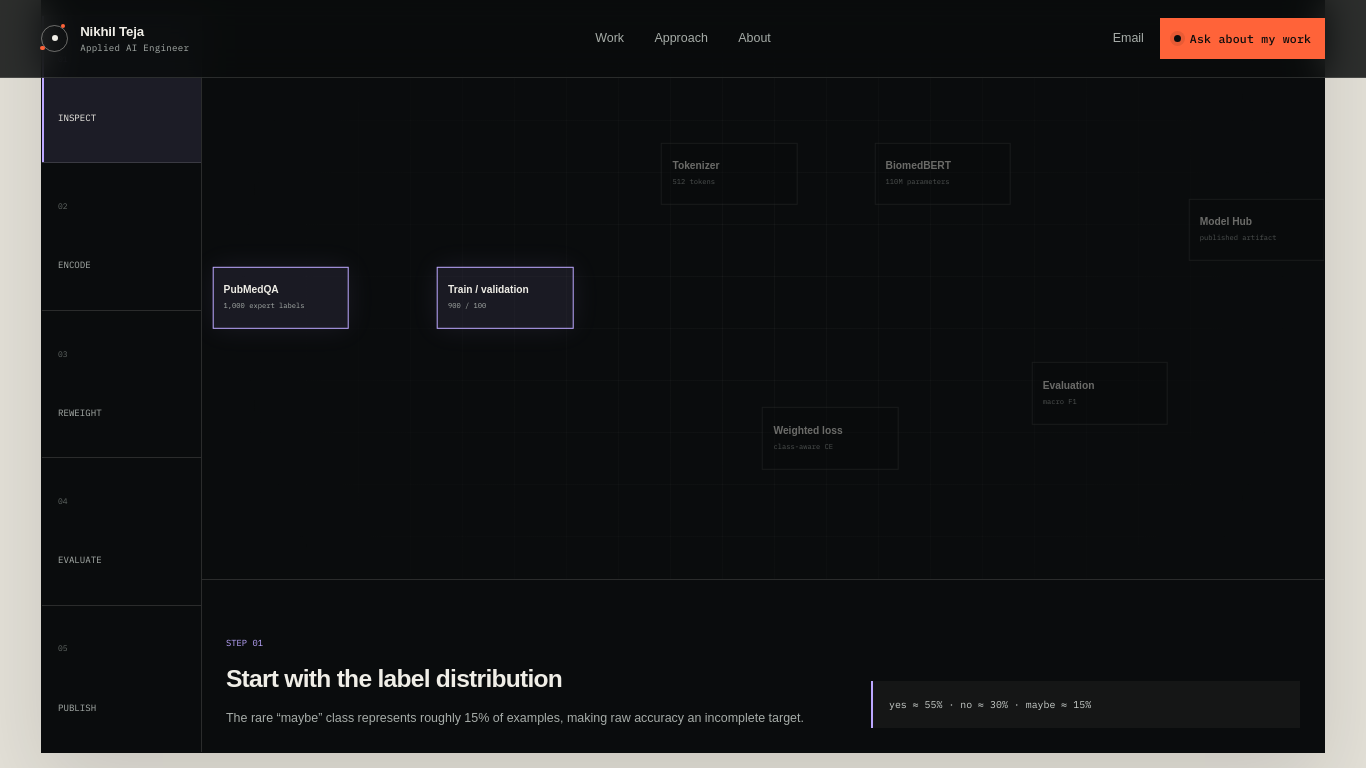
Test: portfolio experience › supports direct, shareable case-study routes and simulation controls
The image size is (1366, 768).
(page scrolled)
Click the tab "03 Reweight" at (122, 384), box [42,311,201,458]
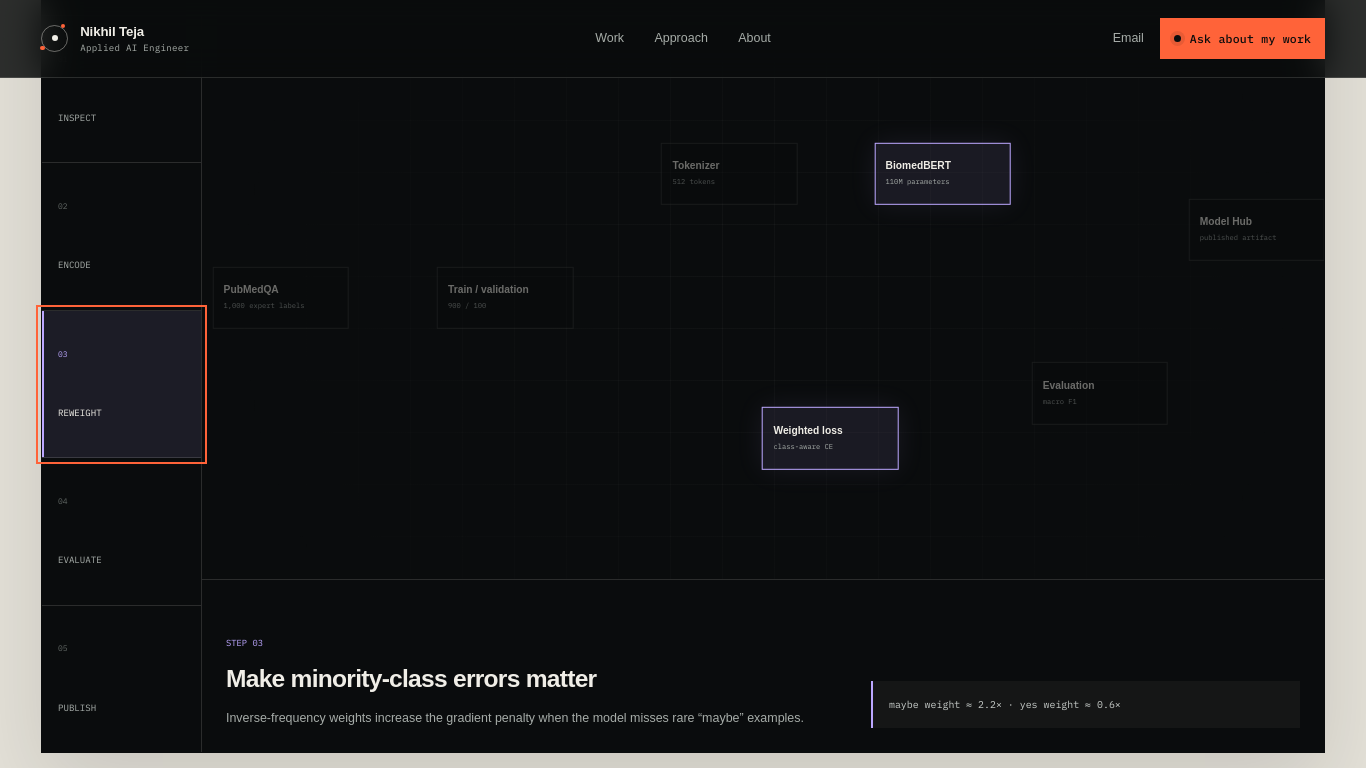
expect the text "maybe weight ≈ 2.2× · yes weight ≈ 0.6×" is shown: met, box [871,681,1300,728]
